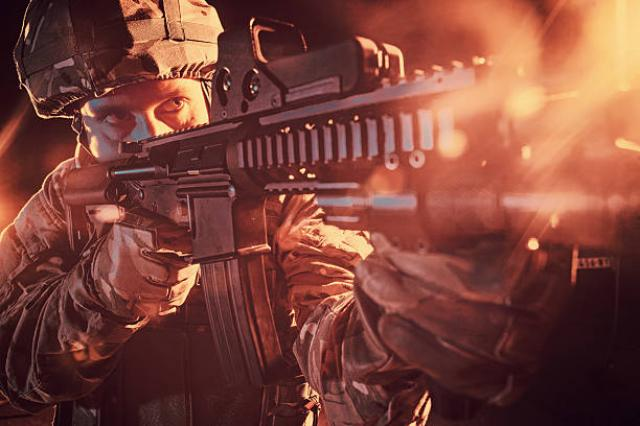other: (1, 0, 269, 414)
